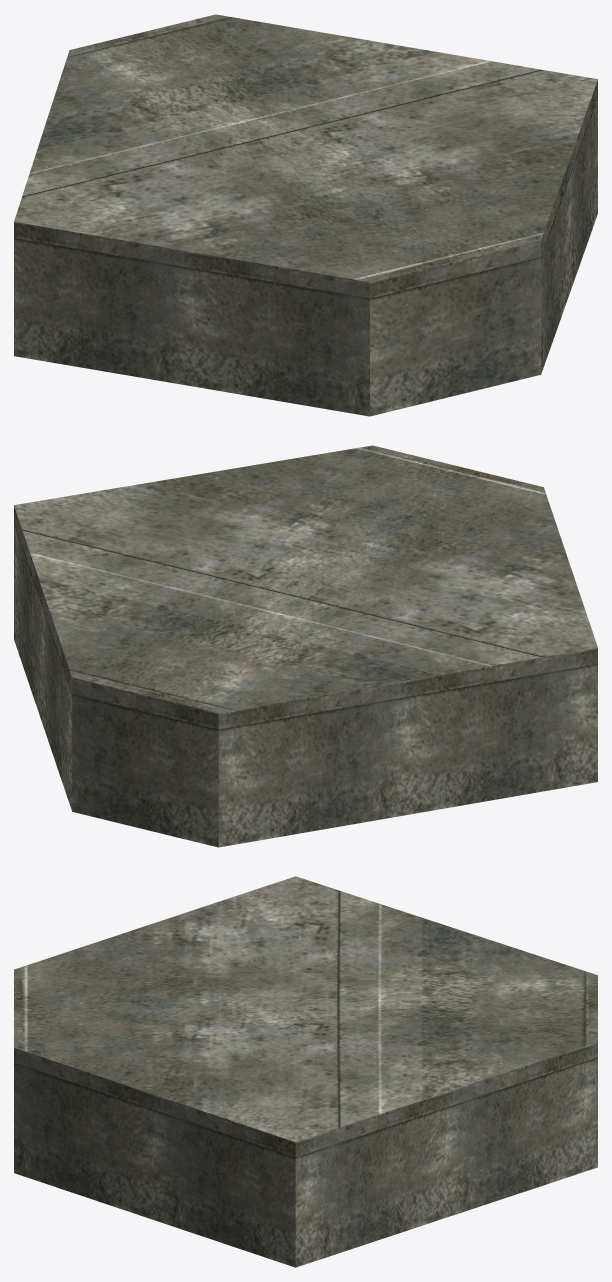
The model's file is ins_all_flora_farm_base_s01_u0_l1.fbx.
3 views of the same model, one above another, from view 1: azimuth 30°, elevation 25°; view 2: azimuth 150°, elevation 25°; view 3: azimuth 270°, elevation 25° (orthographic). The views are drawn at different scales.
Visible parts, largest first — view 1: mesh_node; view 2: mesh_node; view 3: mesh_node.
Part boxes in pixels (x1=…): mesh_node: x1=14, y1=14, x2=597, y2=416; mesh_node: x1=14, y1=445, x2=597, y2=847; mesh_node: x1=14, y1=876, x2=597, y2=1267.
Bounding box in the file's own units: 10.23 × 2.25 × 9.49.
